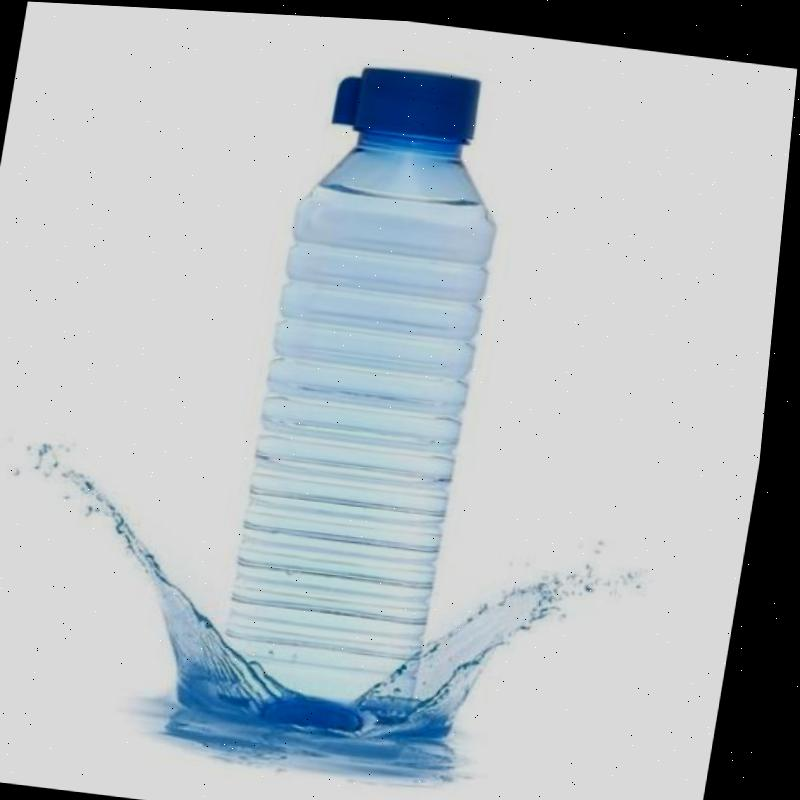botella: (219, 52, 523, 731)
